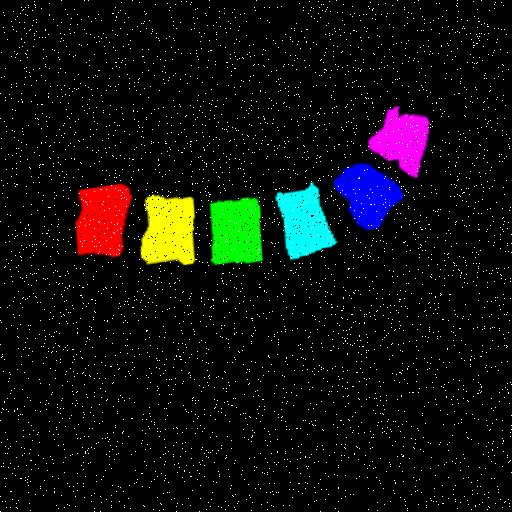L1: (77, 184, 132, 257)
L2: (142, 196, 197, 265)
L3: (212, 199, 264, 265)
L4: (277, 186, 337, 260)
L5: (335, 167, 403, 231)
S1: (369, 111, 430, 180)
